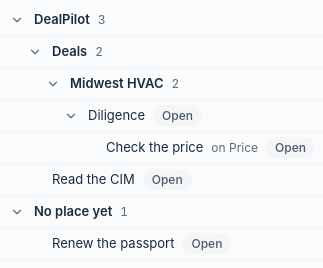
Test case: a tree of places (P1) › shows a row under the row it is part of, saying the field it lives on, and folds a place
Expected: the text "on Price" is shown, x1=211 y1=139 x2=258 y2=156
Click the button "Check the price".
click(155, 148)  # box x1=106 y1=138 x2=203 y2=157
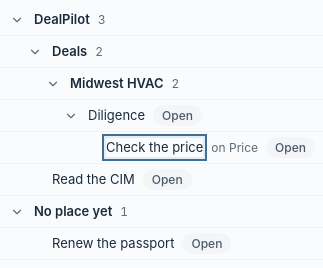
Click the button named "Fold DealPilot".
click(17, 20)  # box x1=8 y1=10 x2=26 y2=28
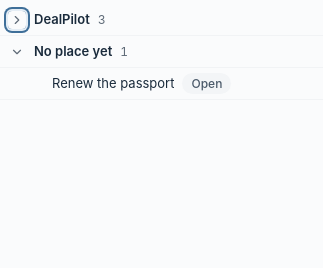
Expected: the button "Renew the passport" is shown, x1=52 y1=74 x2=174 y2=93
Expected: the button "Read the CIM" is gone
